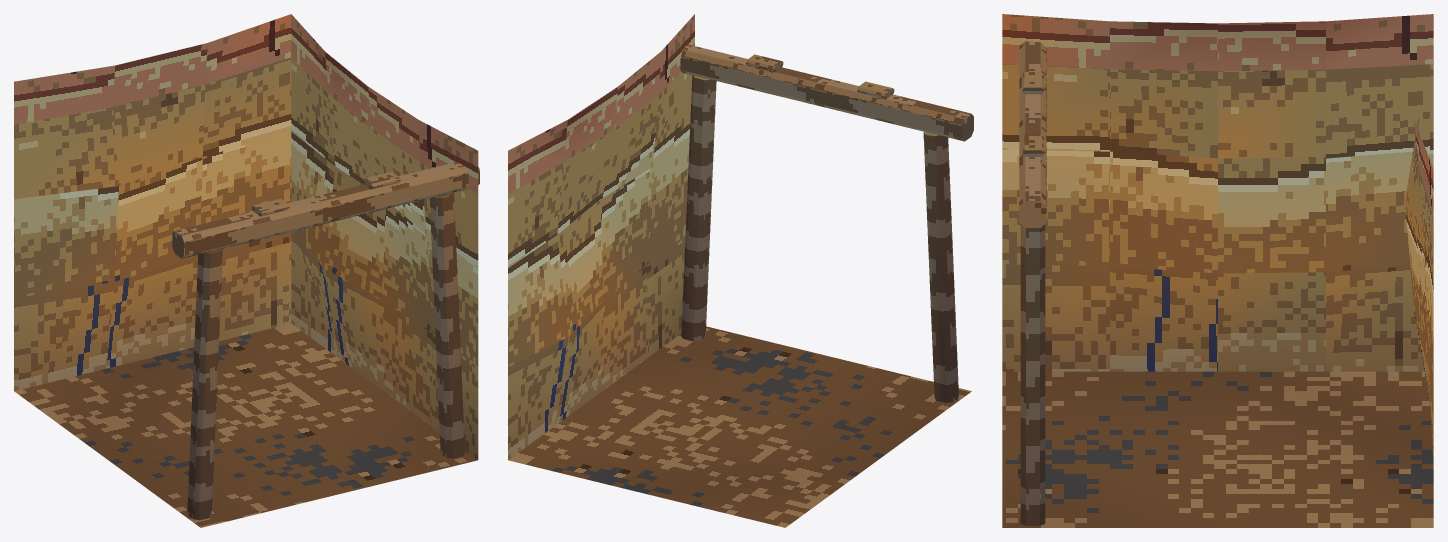
The model's file is wmine.tunnel__end.glb.
3 views of the same model, side by side, from view 1: azimuth 30°, elevation 25°; view 2: azimuth 150°, elevation 25°; view 3: azimuth 270°, elevation 25° (orthographic). The views are drawn at different scales.
Visible parts, largest first — view 1: kit_shell_walls, kit_shell_floor, kit_sets, kit_caps, kit_wedges; view 2: kit_shell_walls, kit_shell_floor, kit_sets, kit_caps, kit_wedges; view 3: kit_shell_walls, kit_shell_floor, kit_sets, kit_caps, kit_wedges.
Boxes of the visible parts, x1,y1,x2,y2 form: kit_shell_walls: (14, 14, 478, 459); kit_shell_floor: (14, 323, 477, 527); kit_sets: (187, 192, 464, 520); kit_caps: (172, 162, 479, 258); kit_wedges: (252, 171, 400, 216); kit_shell_walls: (508, 14, 694, 459); kit_shell_floor: (508, 326, 971, 527); kit_sets: (681, 75, 958, 402); kit_caps: (680, 44, 973, 141); kit_wedges: (746, 54, 894, 99); kit_shell_walls: (1002, 14, 1433, 468); kit_shell_floor: (1002, 371, 1433, 527); kit_sets: (1020, 224, 1045, 525); kit_caps: (1019, 41, 1046, 227); kit_wedges: (1022, 72, 1043, 156).
Bounding box in the file's own units: 3.2 × 3.2 × 3.5.
5 materials, 5 textured.
